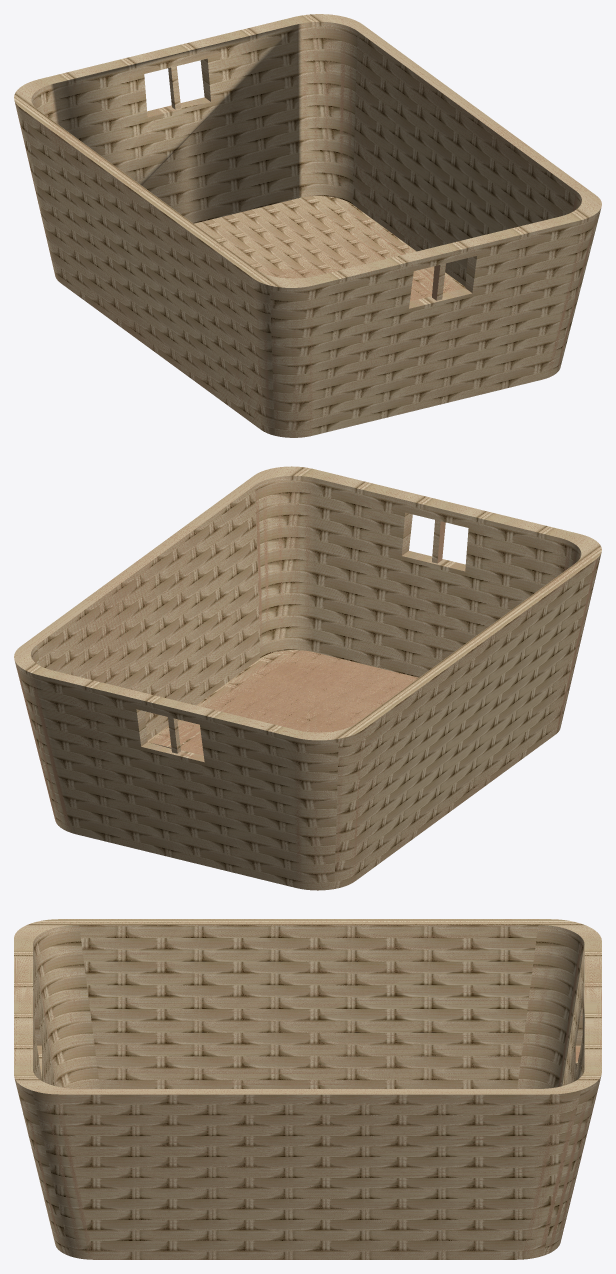
The model's file is Ikea_byholma_36x51x17.fbx.
3 views of the same model, one above another, from view 1: azimuth 30°, elevation 25°; view 2: azimuth 150°, elevation 25°; view 3: azimuth 270°, elevation 25° (orthographic). The views are drawn at different scales.
Parts seen in each view (by area): view 1: Group1; view 2: Group1; view 3: Group1.
Part boxes in pixels (bbox=[...]): Group1: bbox=[14, 14, 601, 437]; Group1: bbox=[14, 466, 601, 890]; Group1: bbox=[14, 919, 601, 1259].
Size of the model in its own units: 36 by 17 by 51.
